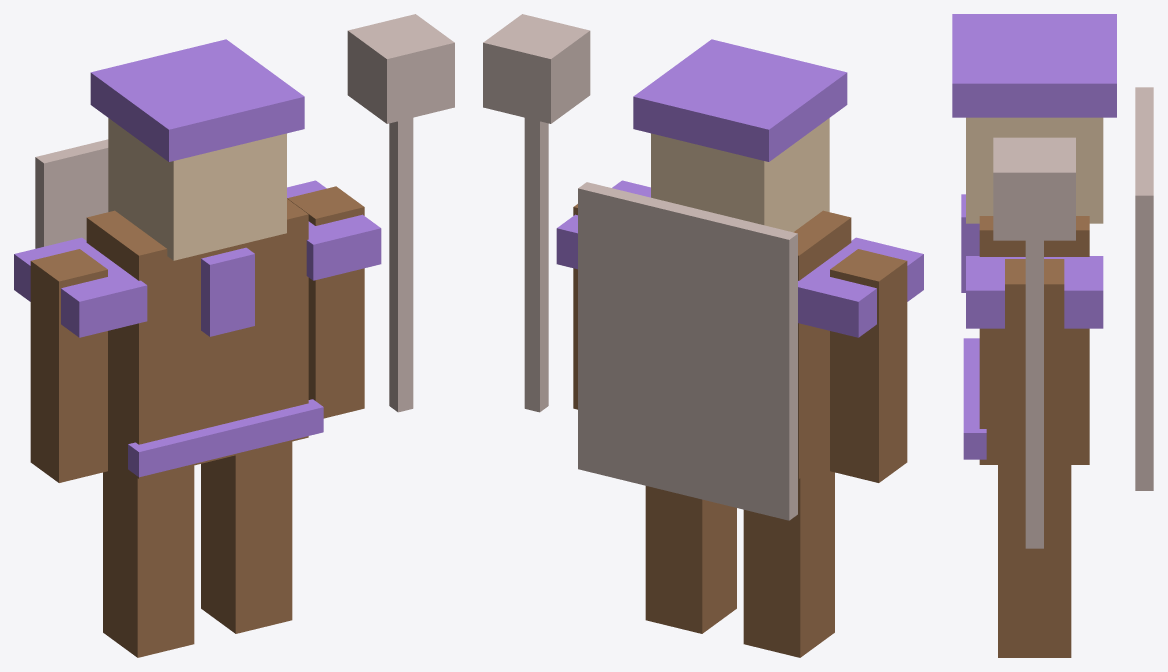
File: 12_varren_tideforged_watcher_of_dustline.glb
3 views of the same model, side by side, from view 1: azimuth 30°, elevation 25°; view 2: azimuth 150°, elevation 25°; view 3: azimuth 270°, elevation 25° (orthographic). The views are drawn at different scales.
Visible parts, largest first — view 1: Varren Tideforged, Watcher of Dustline; view 2: Varren Tideforged, Watcher of Dustline; view 3: Varren Tideforged, Watcher of Dustline.
Part boxes in pixels (x1=…): Varren Tideforged, Watcher of Dustline: x1=14, y1=14, x2=454, y2=657; Varren Tideforged, Watcher of Dustline: x1=483, y1=14, x2=923, y2=657; Varren Tideforged, Watcher of Dustline: x1=952, y1=14, x2=1153, y2=657.
Bounding box in the file's own units: 1.09 × 1.44 × 0.4627.
